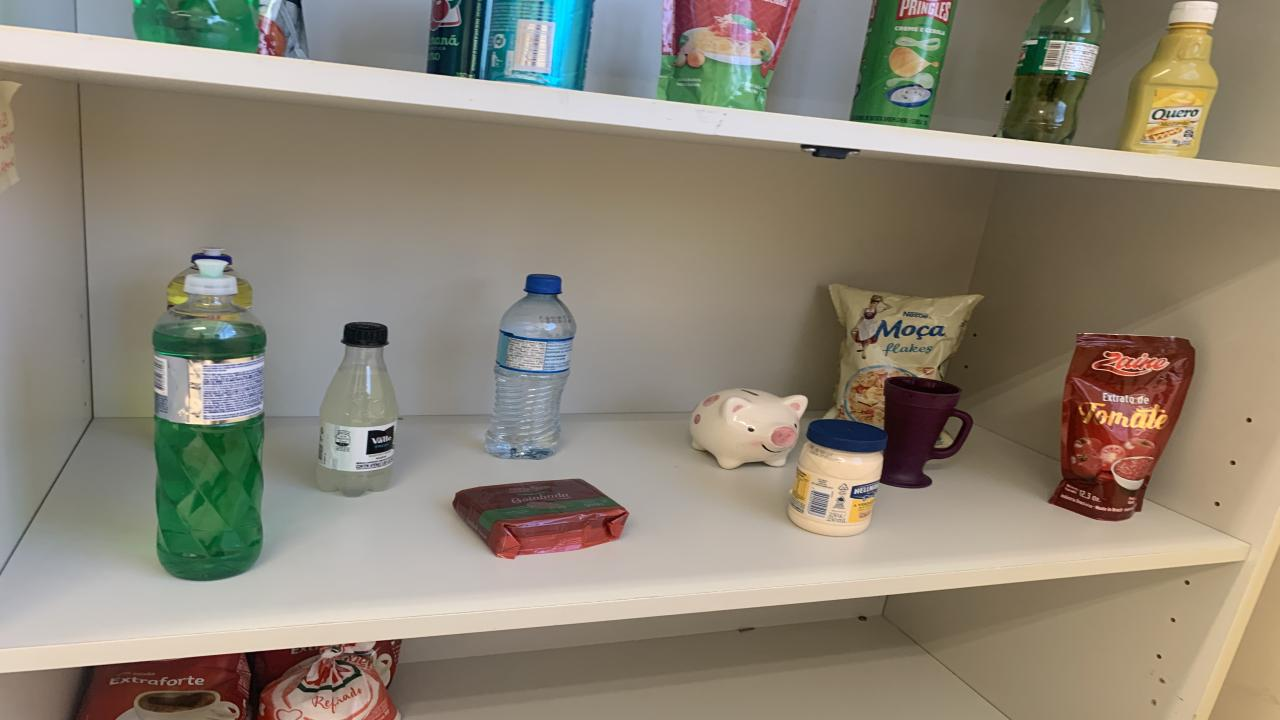Detergent-Cleanup_Items: (152, 259, 265, 581), (132, 0, 258, 52), (168, 248, 235, 308), (232, 278, 252, 309)
Flakes-Snacks: (828, 285, 982, 426)
Guarana-Drinks: (998, 0, 1105, 144)
Guarana_Can-Drinks: (428, 0, 488, 79)
Guava-Snacks: (452, 480, 628, 559)
Mayonnaise-Pantry_Items: (788, 420, 888, 536)
Mustard-Pantry_Items: (1115, 0, 1218, 158)
Pig_Safe-Miscellaneous: (690, 388, 808, 469)
Pringles-Snacks: (850, 0, 958, 128)
Soda-Drinks: (315, 322, 398, 497)
Tea-Drinks: (482, 0, 592, 90)
Tomato_Sauce-Pantry_Items: (1050, 334, 1195, 521), (658, 0, 798, 111), (258, 0, 310, 58)
Water_Bottle-Drinks: (485, 276, 575, 459)
